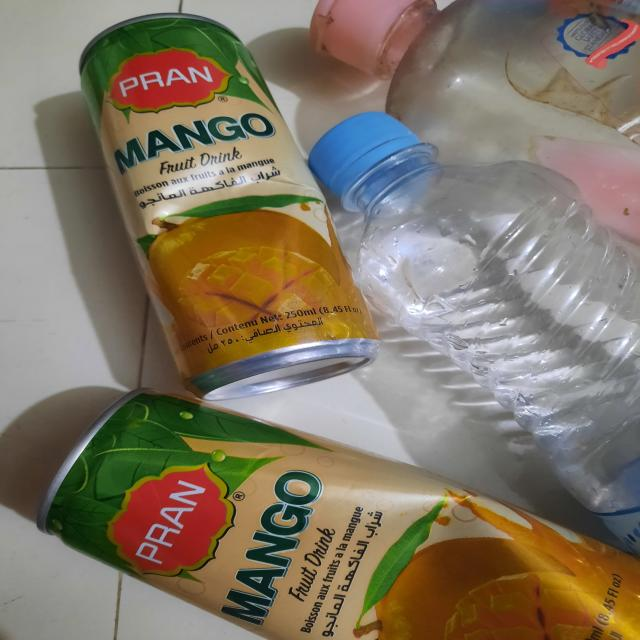Plastics: (305, 0, 640, 507)
can: (62, 403, 640, 640), (90, 6, 322, 398)
